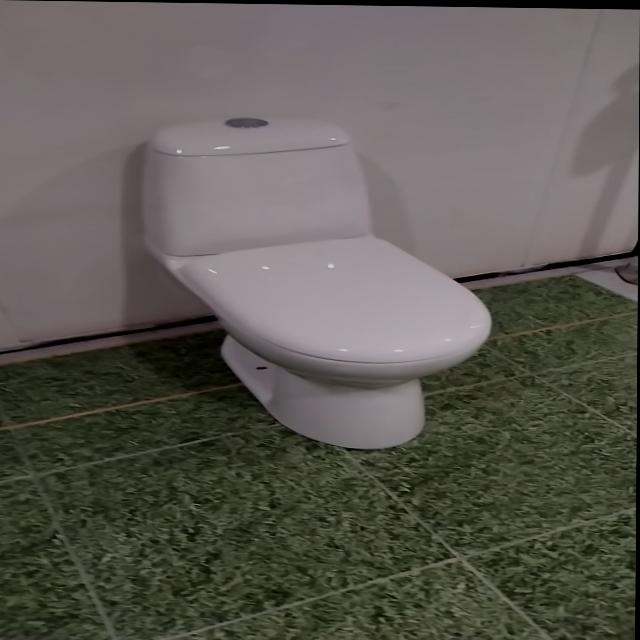toilet: (138, 114, 494, 450)
